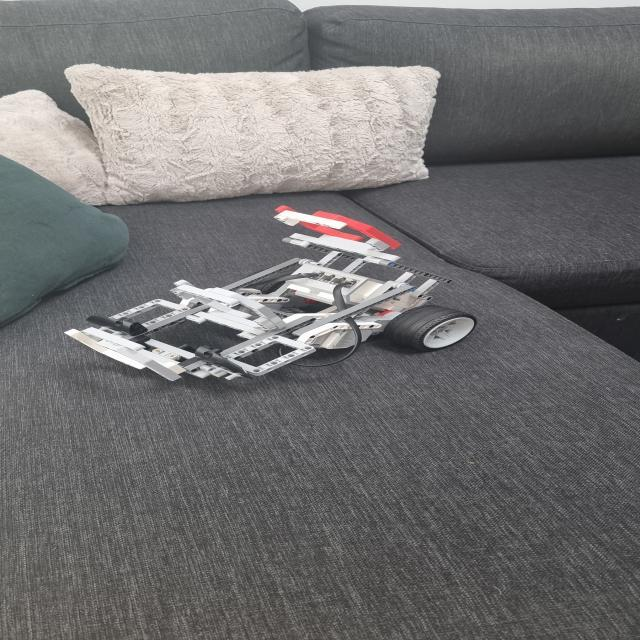robot: (62, 204, 481, 382)
